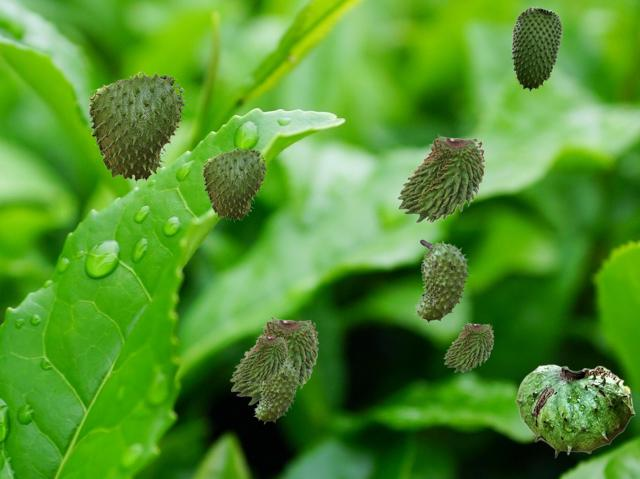guyabano: (515, 364, 634, 457), (88, 71, 186, 183), (229, 315, 318, 404), (396, 133, 485, 222), (202, 147, 267, 221), (414, 239, 471, 323), (511, 6, 561, 90), (253, 358, 300, 423), (443, 321, 493, 371), (237, 334, 287, 384)
